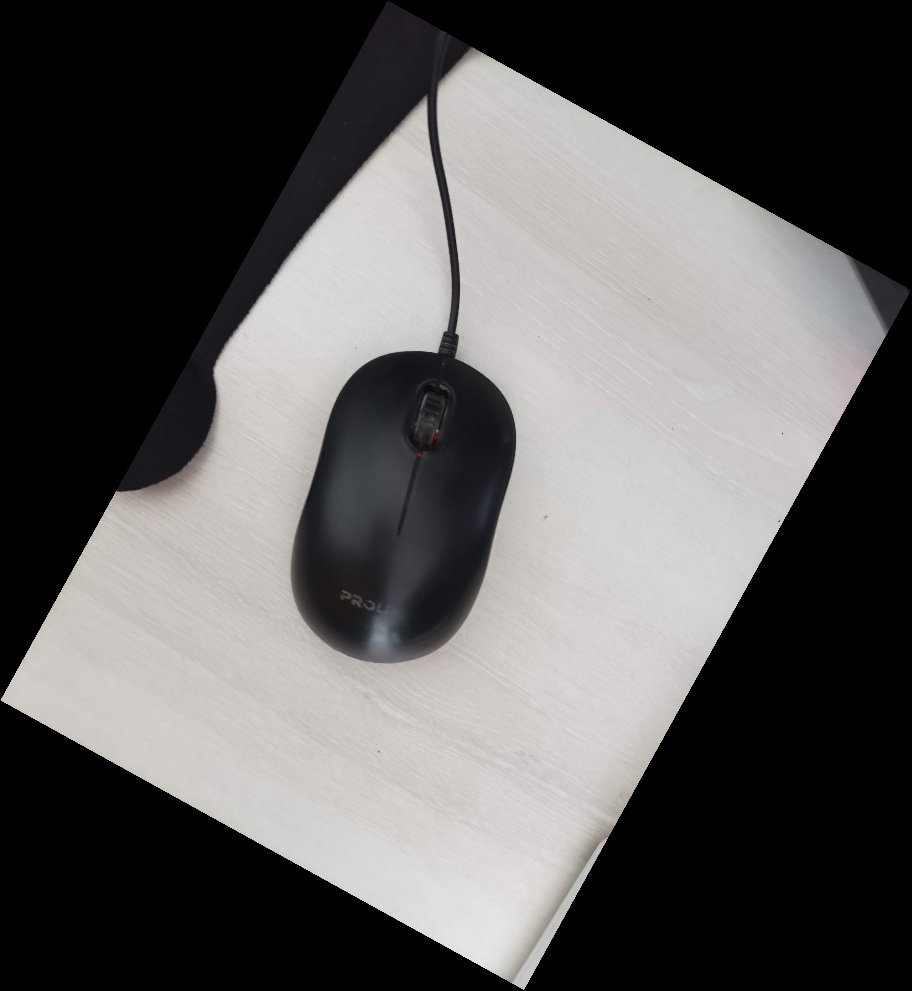mouse: (285, 346, 520, 667)
